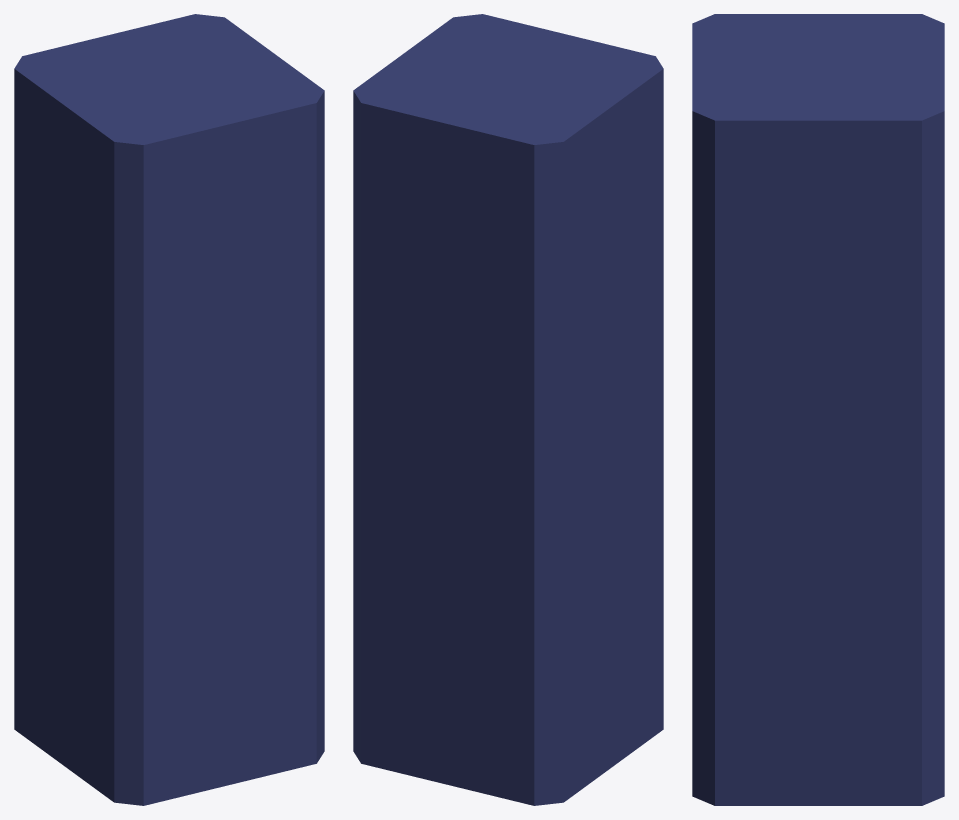
File: ThrowProp_BuildingBlock_BoxL.FBX
3 renders of one model, left to right at view 1: azimuth 30°, elevation 25°; view 2: azimuth 150°, elevation 25°; view 3: azimuth 270°, elevation 25°, orthographic. The views are drawn at different scales.
Visible parts, largest first — view 1: BuildingBlock_BoxL; view 2: BuildingBlock_BoxL; view 3: BuildingBlock_BoxL.
Boxes of the visible parts, x1,y1,x2,y2 form: BuildingBlock_BoxL: [14, 14, 324, 805]; BuildingBlock_BoxL: [353, 14, 663, 805]; BuildingBlock_BoxL: [692, 14, 944, 805].
Bounding box in the file's own units: 5 × 5 × 15.
